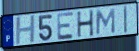5: (37, 14, 54, 43)
E: (56, 10, 75, 41)
H: (15, 14, 37, 46), (76, 9, 95, 39)
I: (123, 5, 129, 35)
M: (95, 7, 116, 36)
